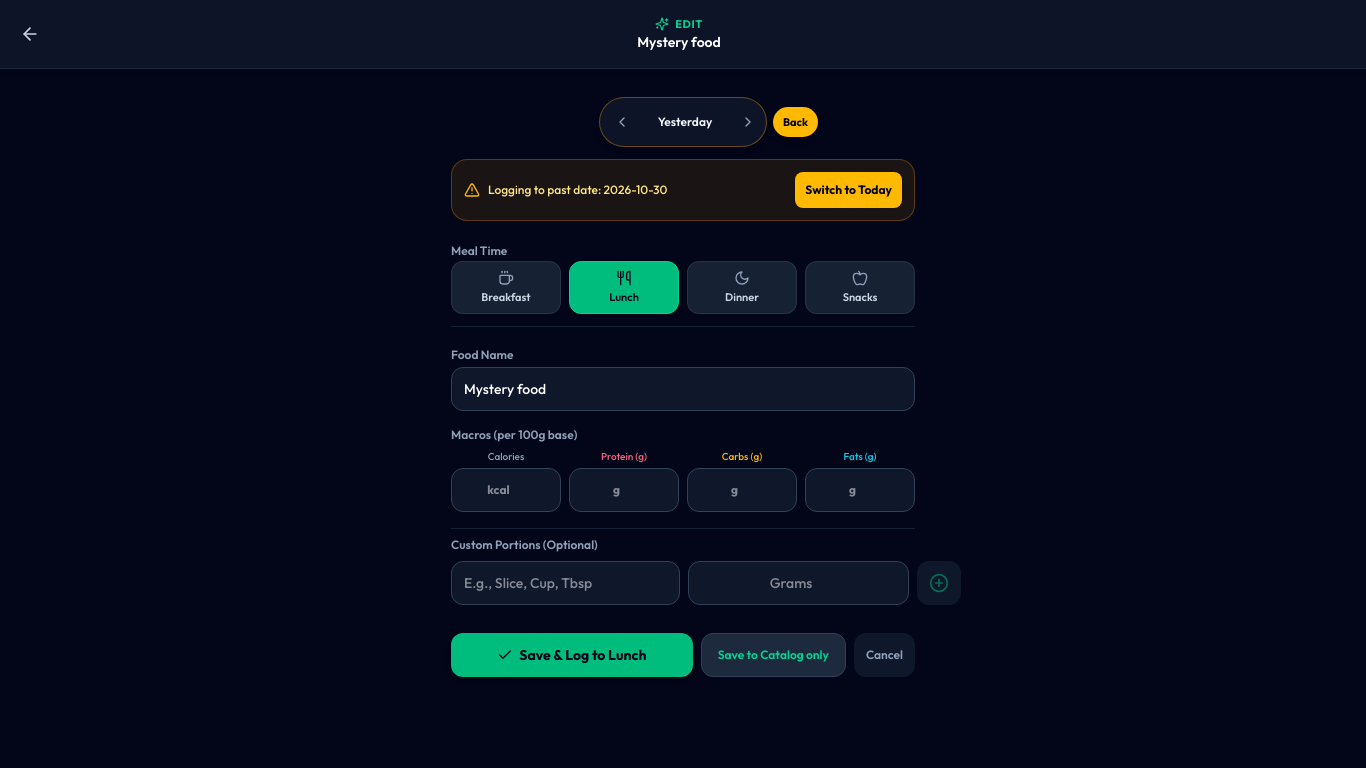
Scenario: IngredientBuilder validations (diary and catalog modes) › blocks saving when total macro weight exceeds 100g
Type "500" into the number field with placeholder "kcal" at (506, 490), box top-left (451, 468), bottom-right (561, 512)
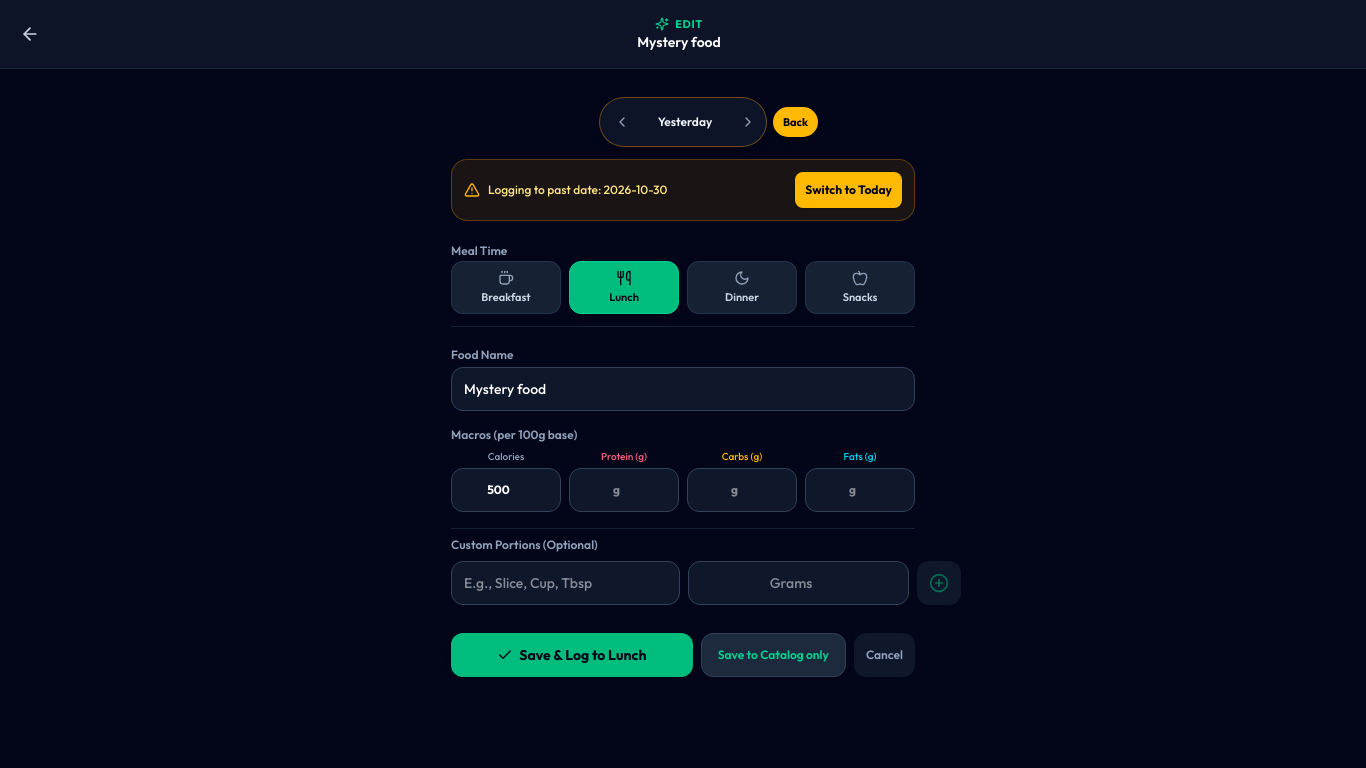
Type "60" into the number field with placeholder "g" below "Protein (g)" at (624, 490), box top-left (569, 468), bottom-right (679, 512)
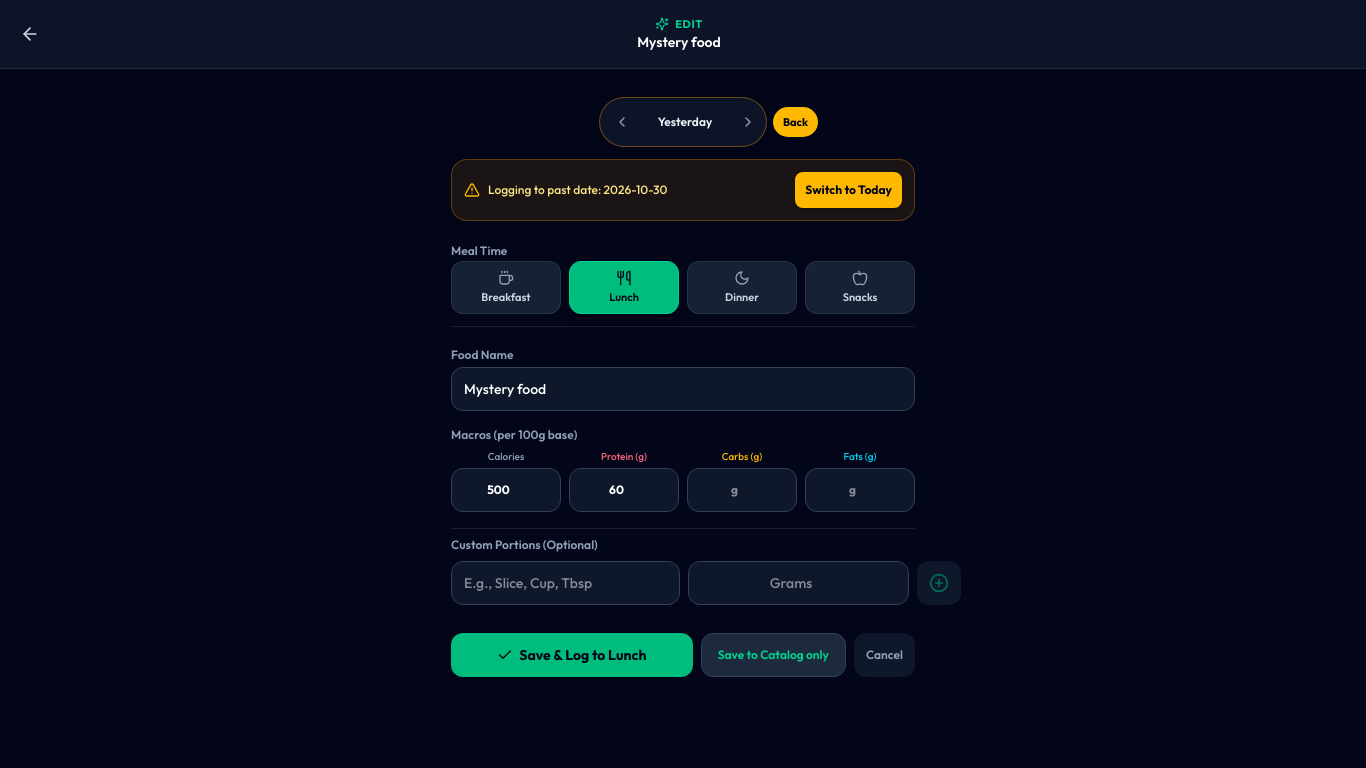
Type "50" into the number field with placeholder "g" below "Carbs (g)" at (742, 490), box top-left (687, 468), bottom-right (797, 512)
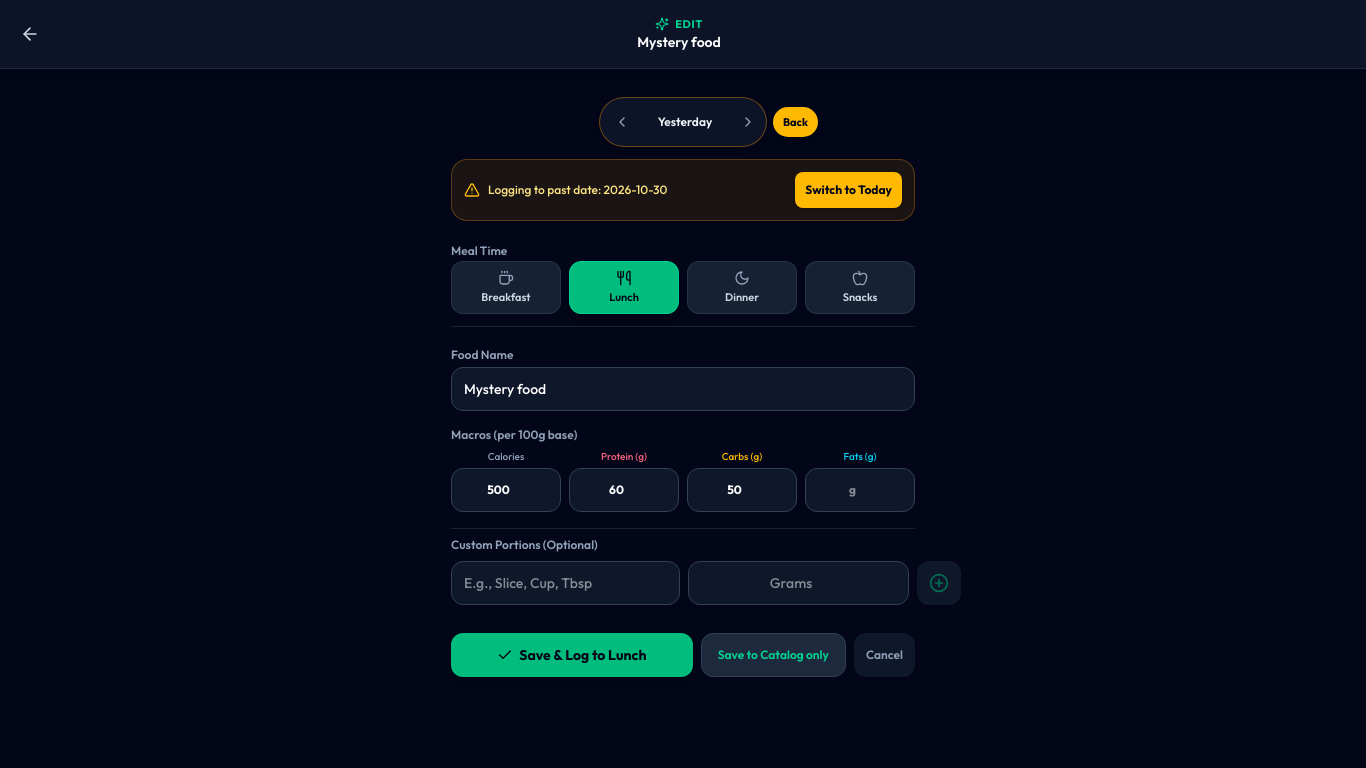
Type "30" into the number field with placeholder "g" at (860, 490), box top-left (805, 468), bottom-right (915, 512)
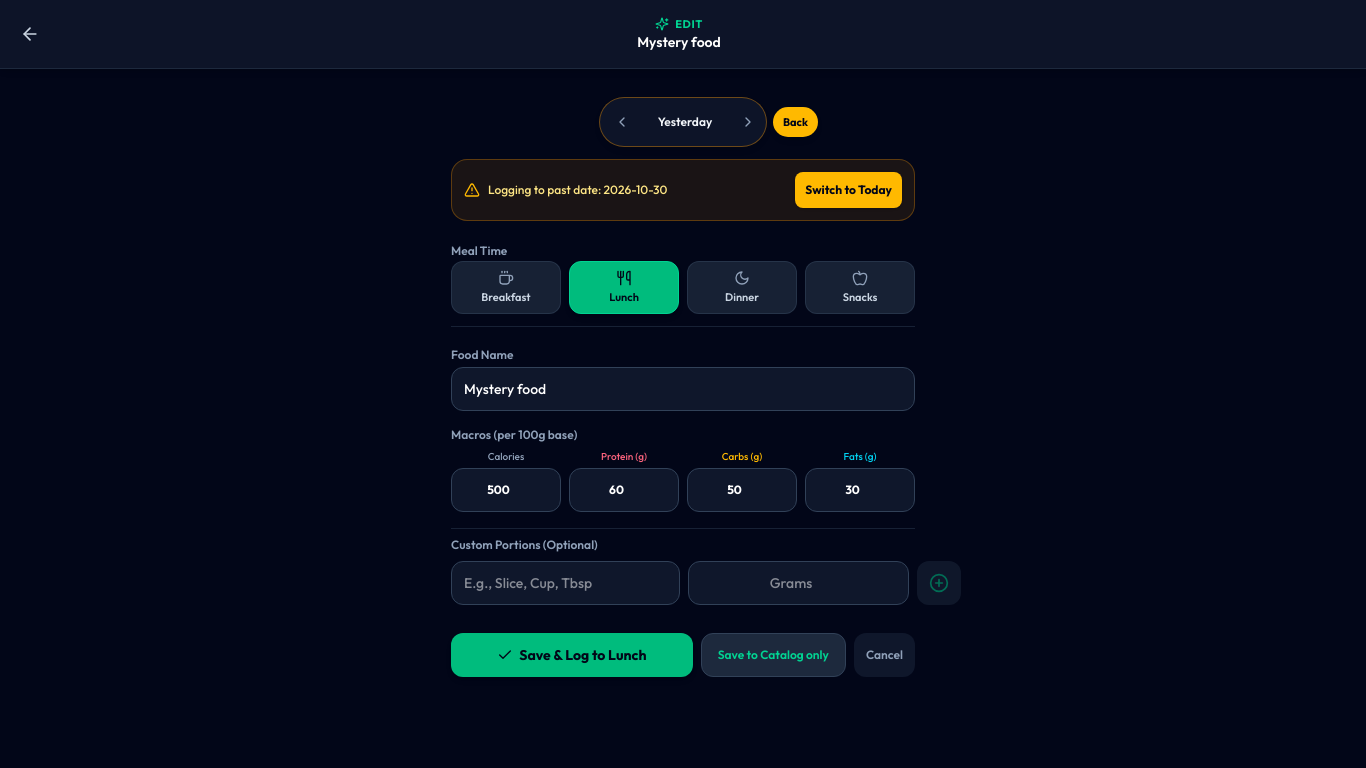
Click the button with test id "btn-save-and-log-ingredient" at (572, 655), box top-left (451, 633), bottom-right (693, 677)
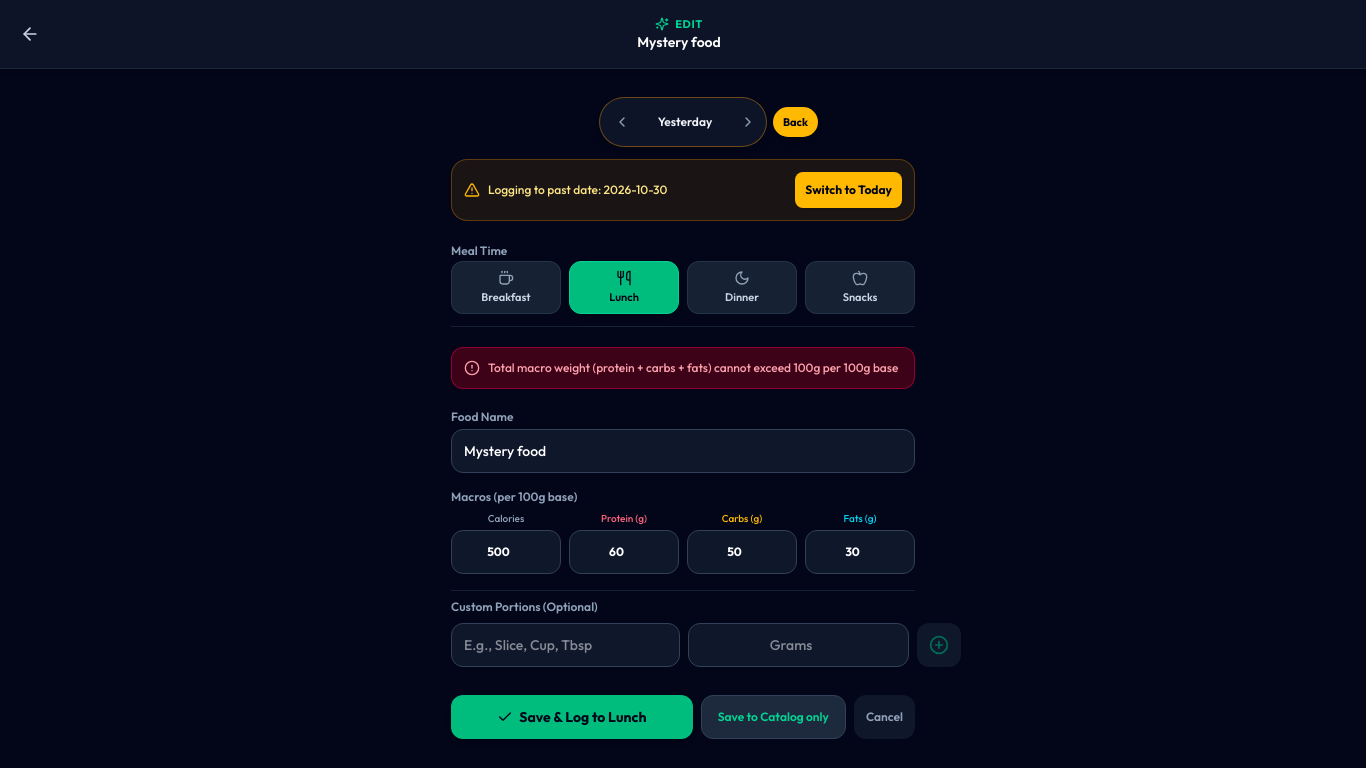
Expected: the text "Total macro weight" is shown, top-left (488, 360), bottom-right (898, 375)
